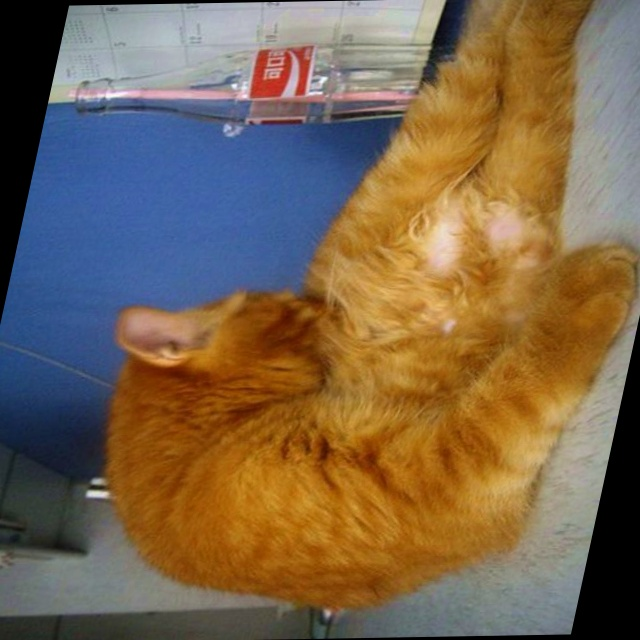hairloss: (421, 198, 548, 267)
